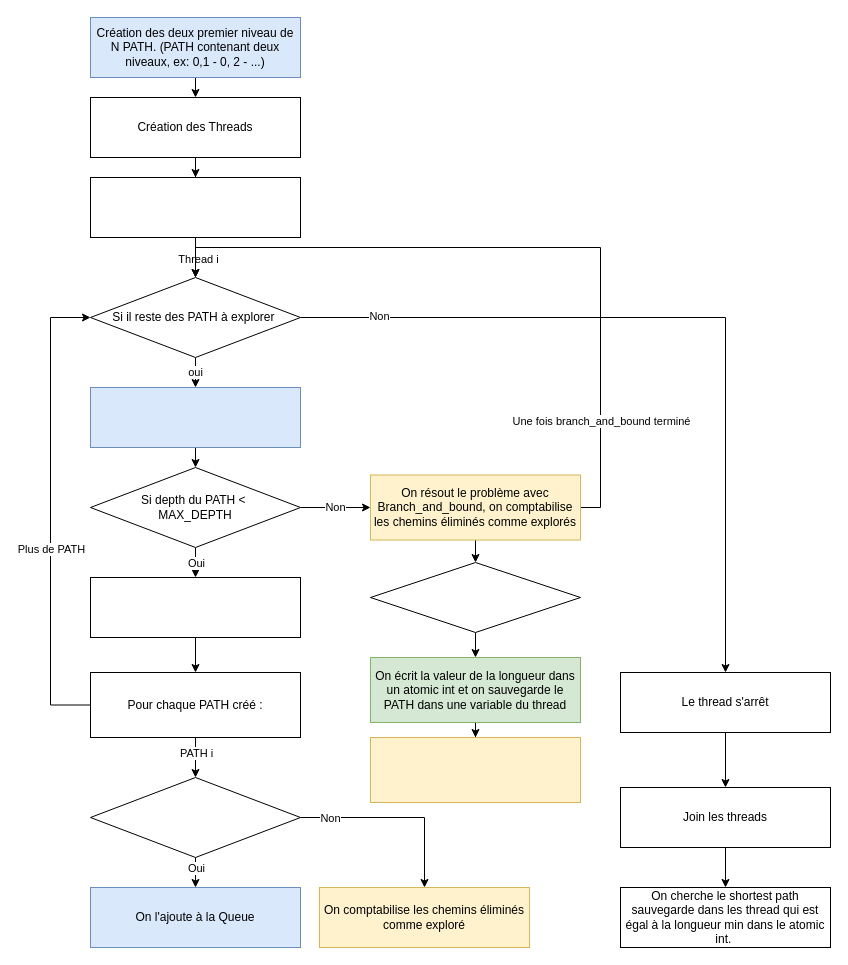
This 848x965 diagram has some shape labels left out. The shapes that lost their labels are listed below. From the top down, each one's box as (x1, y1, x2, y2) in pixels, then its label:
(90, 176, 300, 238): Pour chaque Threads :
(90, 386, 300, 448): Prend un Path dans la Queue
(90, 576, 300, 638): On crée les N - Depth PATH suivant
(370, 562, 580, 632): Si on trouve un shortest path
(370, 736, 580, 802): On comptabilise un chemin exploré
(90, 776, 300, 858): Si la longueur du PATH i est plus petite que le shortest
